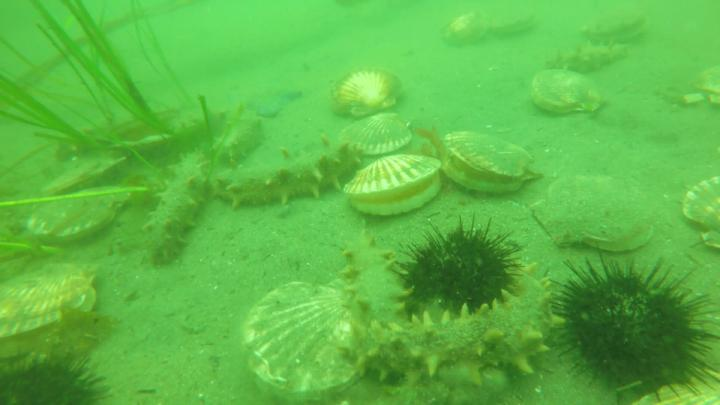echinus: (552, 249, 718, 405), (403, 211, 527, 315), (1, 343, 111, 405)
holothurian: (339, 231, 554, 384), (212, 139, 366, 209), (140, 152, 207, 270), (214, 103, 269, 167), (546, 41, 629, 75)
scallop: (238, 278, 370, 405), (532, 165, 661, 257), (1, 258, 99, 369), (344, 149, 447, 224), (435, 127, 539, 196), (25, 191, 130, 246), (528, 66, 609, 120), (327, 66, 411, 118), (335, 112, 418, 157), (39, 154, 131, 194), (682, 166, 720, 250), (584, 4, 649, 45), (437, 7, 484, 49), (486, 7, 541, 41), (696, 57, 720, 105)
starfish: (242, 83, 307, 123)
waterweeds: (1, 2, 187, 213)
